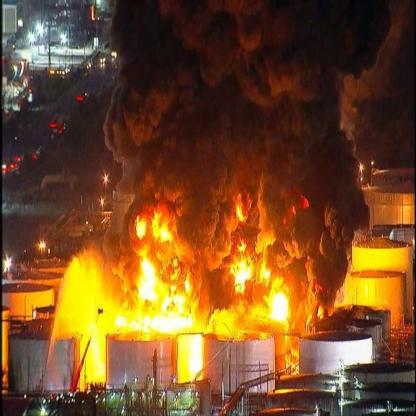fire: (61, 214, 326, 390)
other: (79, 166, 109, 211), (35, 226, 50, 260), (2, 252, 14, 279)
smoke: (121, 2, 369, 256)
